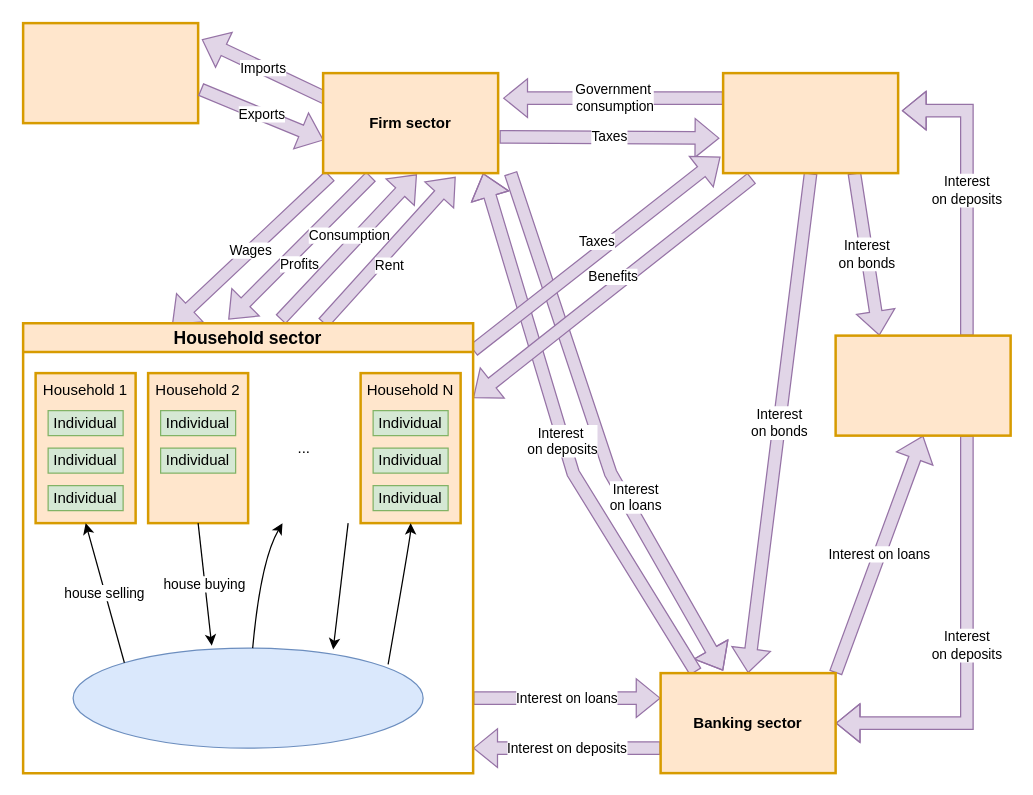
Image size: 1033x795. Some labels were removed from this diagram. The centre of each missing label's shape, as x and y in pixels:
"Central bank" goes at (922,385).
"External sector" goes at (110,72).
"Government sector" goes at (810,122).
"Housing market" goes at (247,697).
